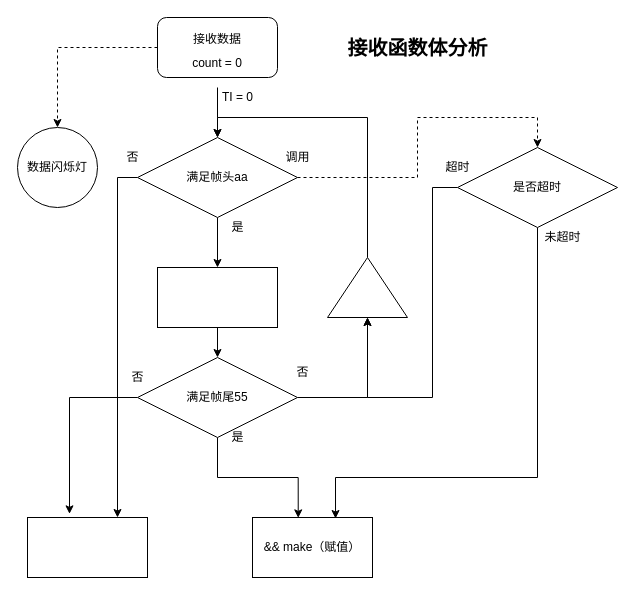
Image size: 635x595. Some labels were removed from this diagram. The centre of each missing label's shape, as x and y in pixels:
count清零: point 367,287
|| send（ERROR!）: point 87,547
写入数据mesg count = count++: point 217,297
